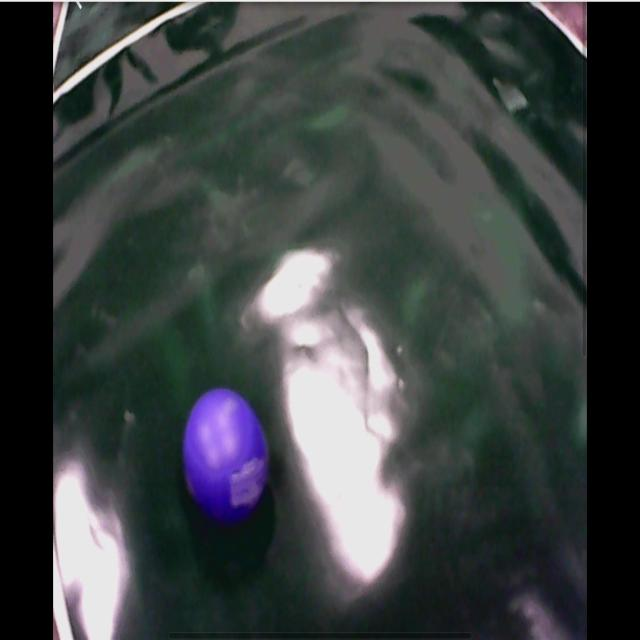ball: (186, 385, 268, 520)
